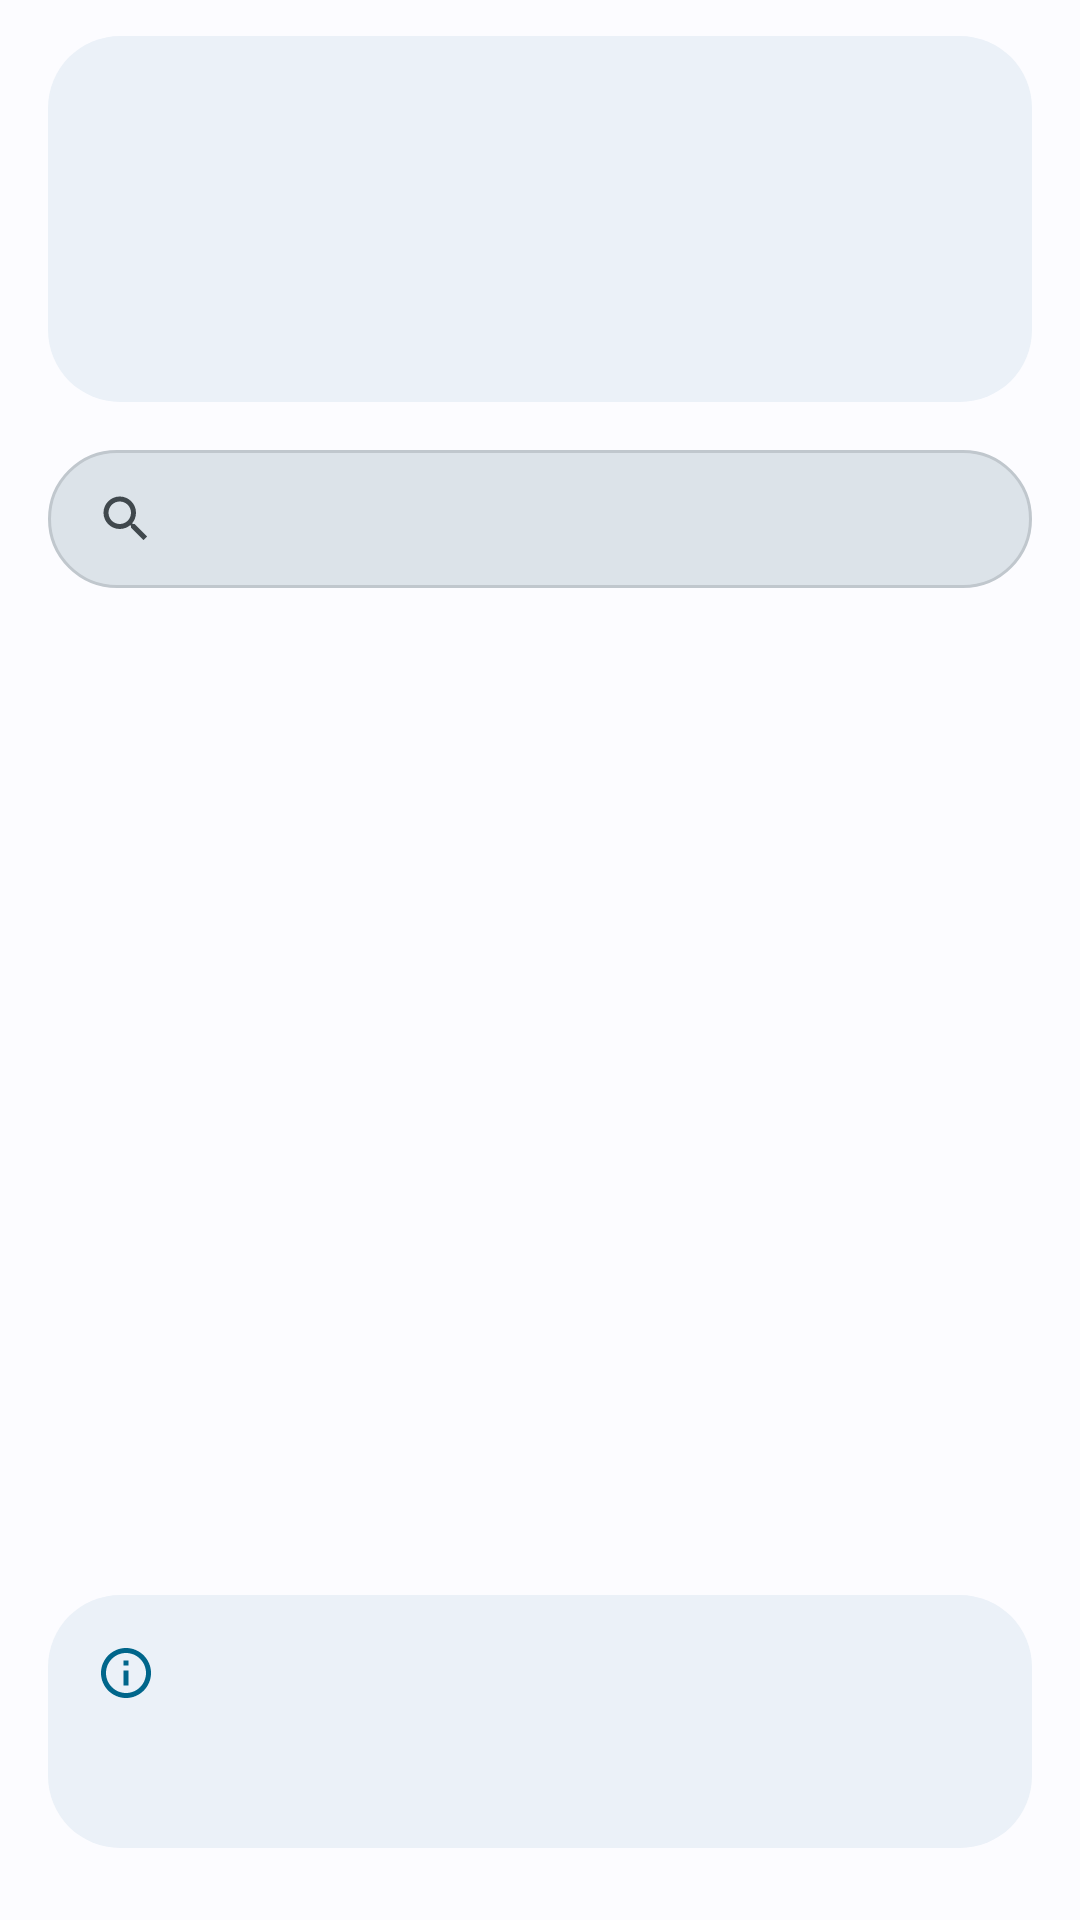

Named icons in this screenshot (1080 x 1920) and their bounding boxes, BBox(x1, y1, x2, y2):
info: BBox(101, 1648, 151, 1698)
